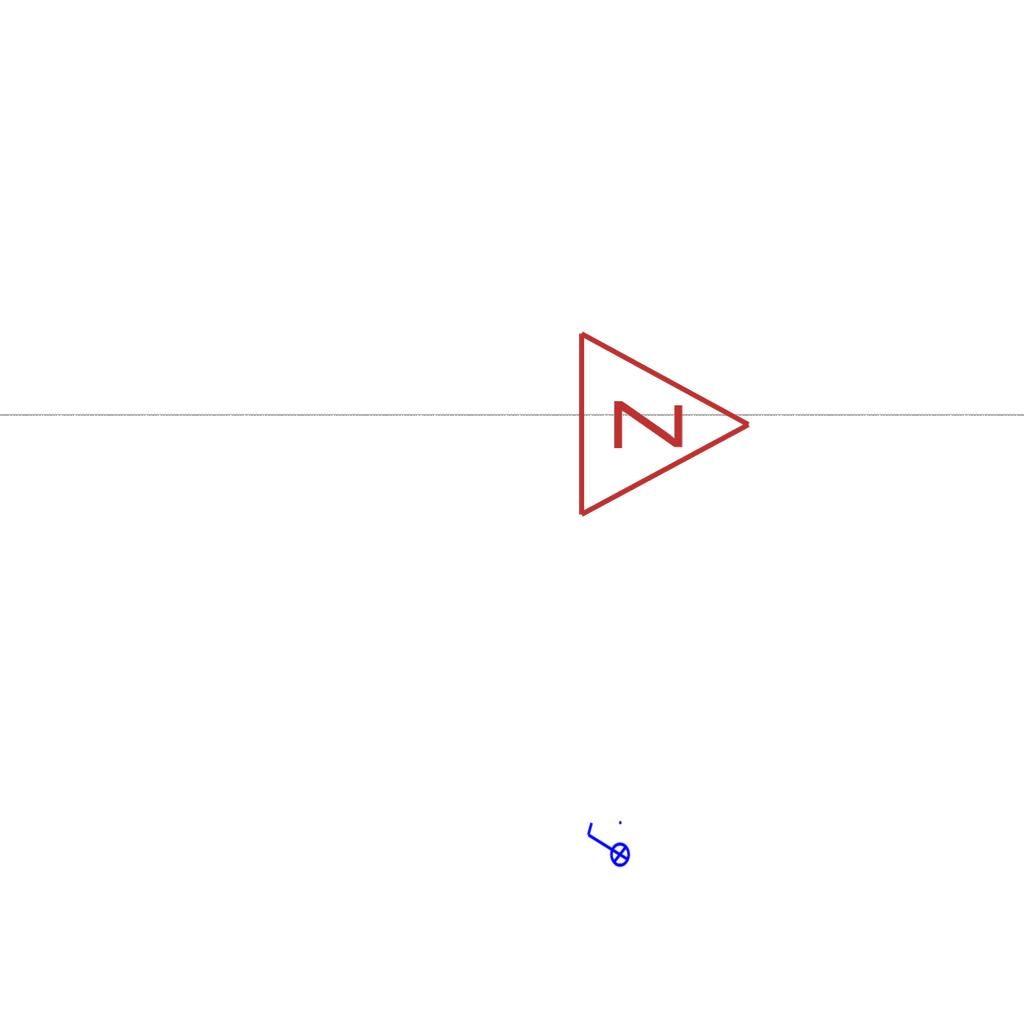Ausschalter_beleuchtet: (583, 818, 631, 874)
Zimmersignalleuchte: (564, 324, 764, 520)
